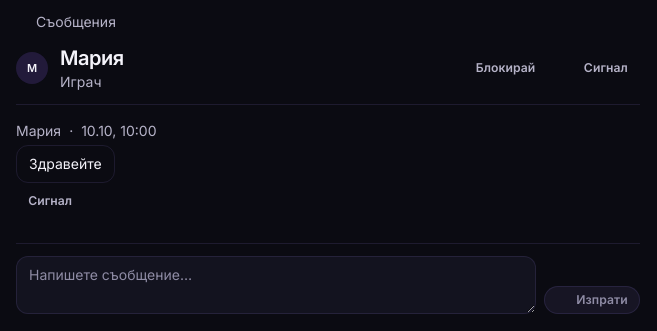
Test: ConversationView — block and report (#375) › blocks at once, says so, and offers the way back
Click the button with test id "conversation-block" at (506, 68), box [464, 54, 548, 82]
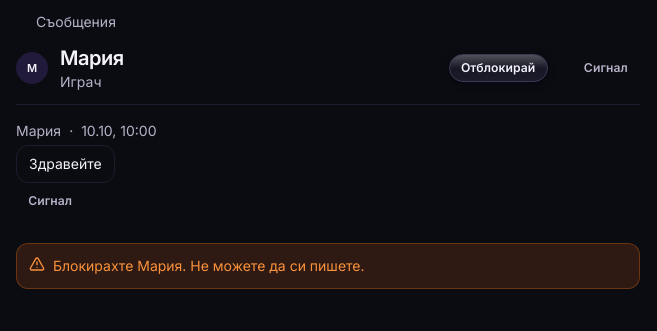
Check: the message "Блокирахте Мария. Не можете да си пишете." is shown, box [16, 243, 640, 289]
Check: the form with test id "conversation-composer" is gone
Click the button with test id "conversation-unblock" at (498, 68), box [449, 54, 548, 82]
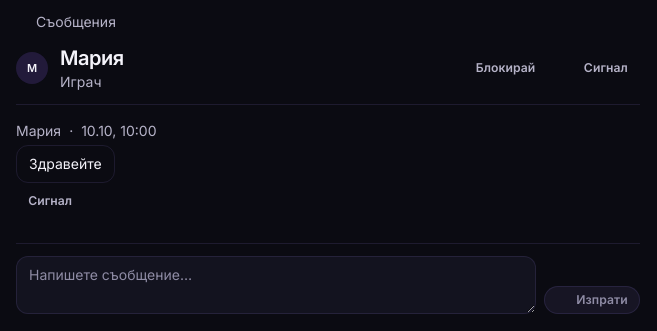
Check: the form with test id "conversation-composer" is shown, box [16, 243, 640, 314]
